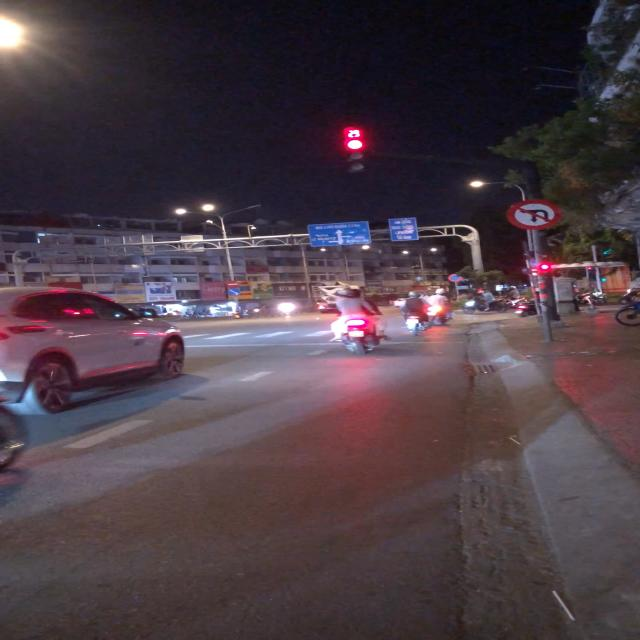Bien bao cam re trai va quay dau: (506, 198, 562, 232)
